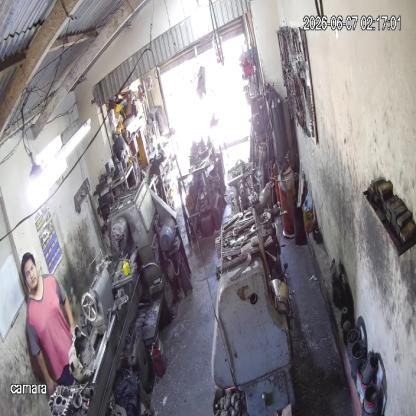sin_lentes: (24, 264, 35, 277)
